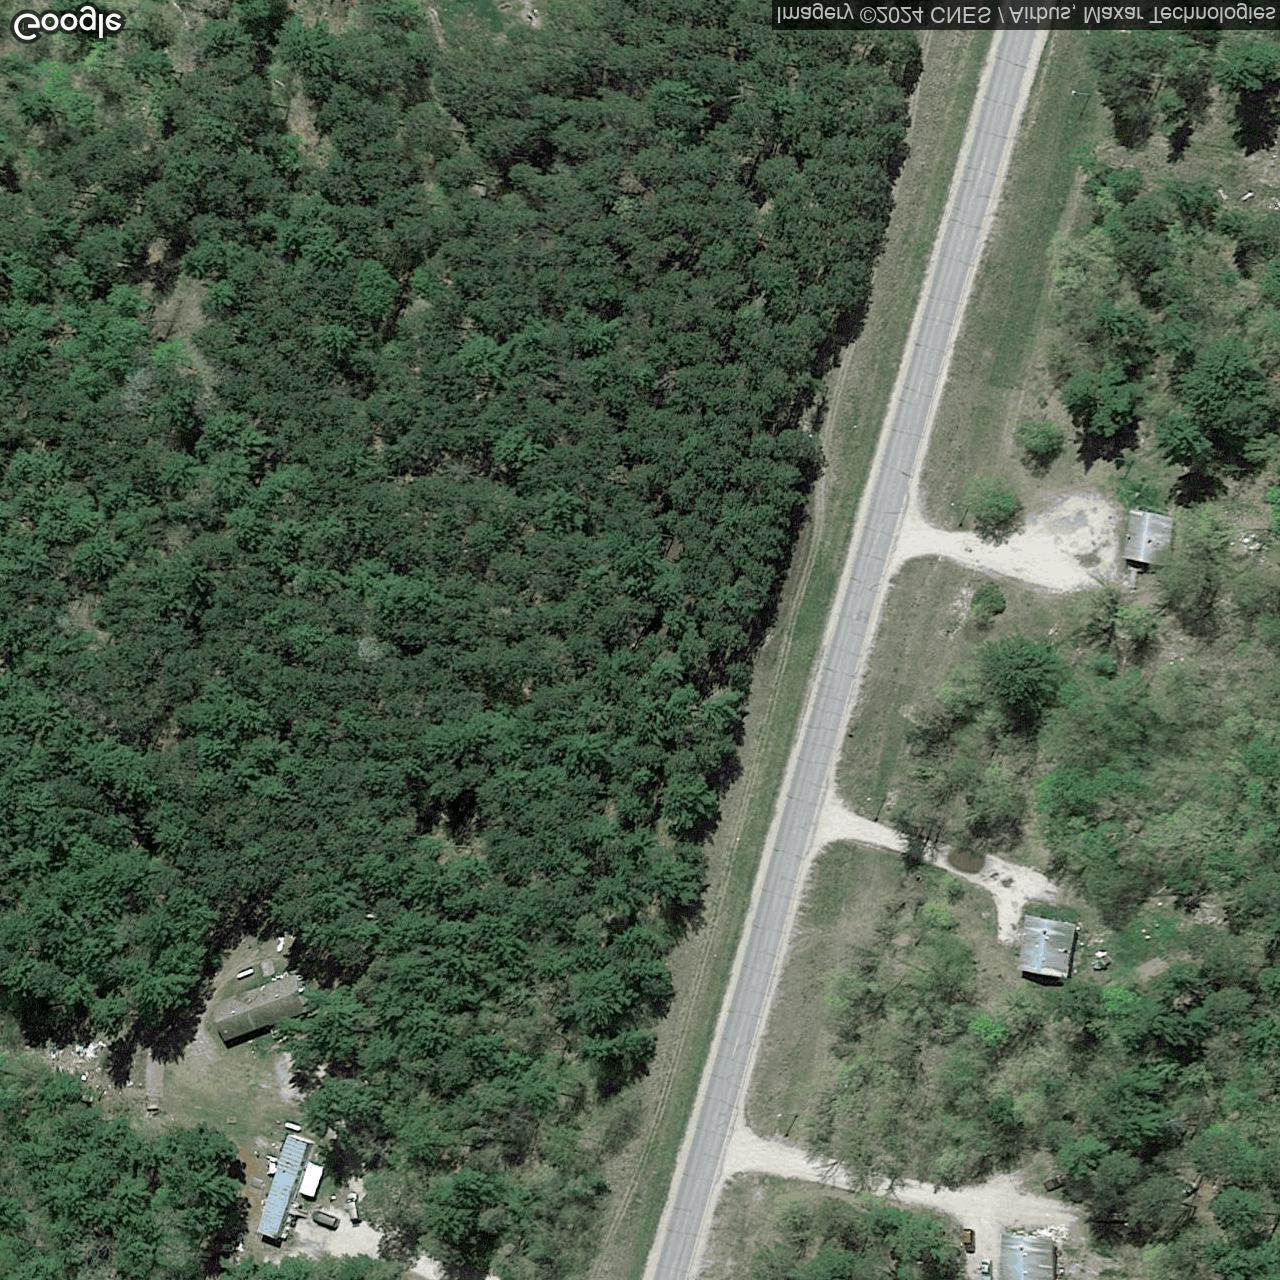House: (213, 974, 309, 1043), (1017, 913, 1077, 981), (1118, 508, 1176, 567), (998, 1232, 1055, 1280)
Propane: (234, 967, 256, 981), (282, 1119, 304, 1133)
Trailer: (256, 1132, 316, 1239)
